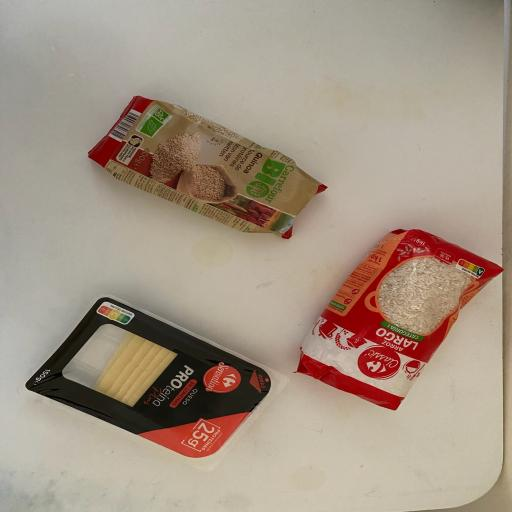cheese: (22, 294, 273, 462)
quinoa: (82, 92, 328, 242)
rice: (292, 224, 503, 413)
